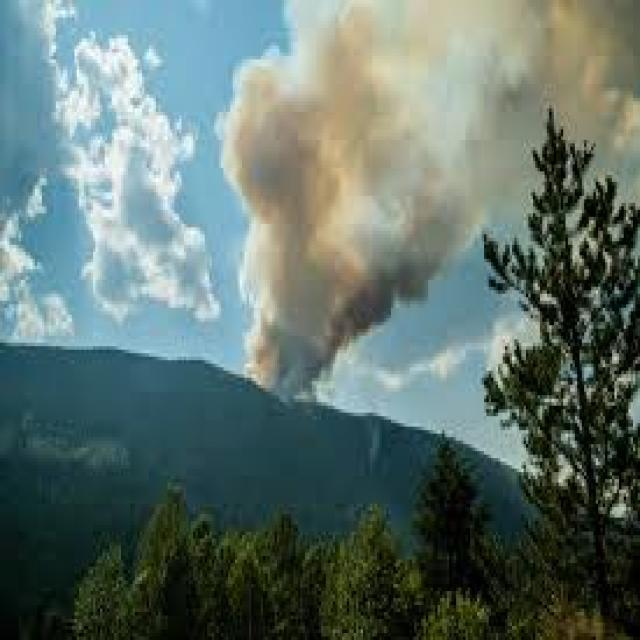Smoke: (209, 6, 476, 412)
